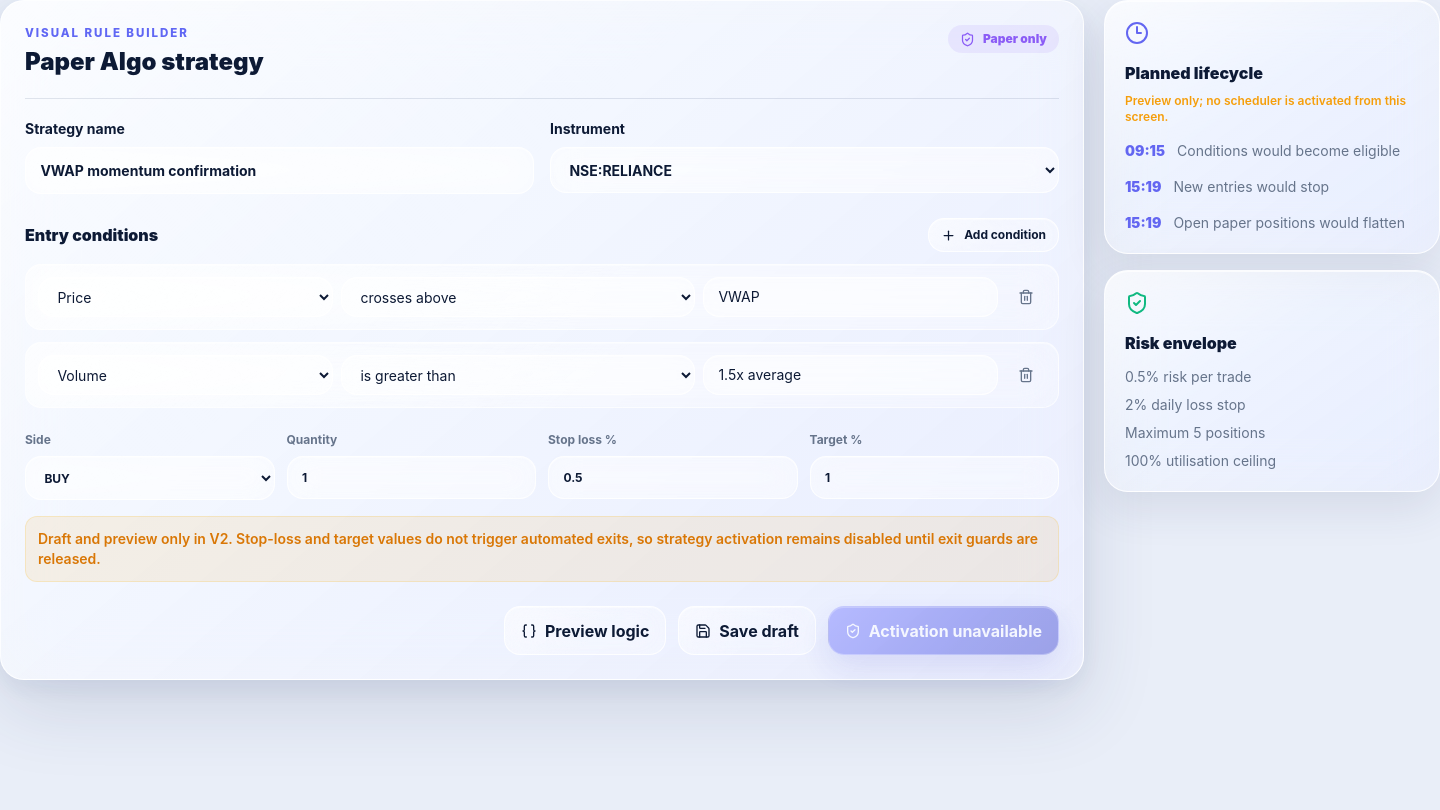
it: Algo Builder execution guard › labels stop and target values as planning references in the preview
Click the button "Preview logic". click: (585, 631)
box: [504,606,666,655]
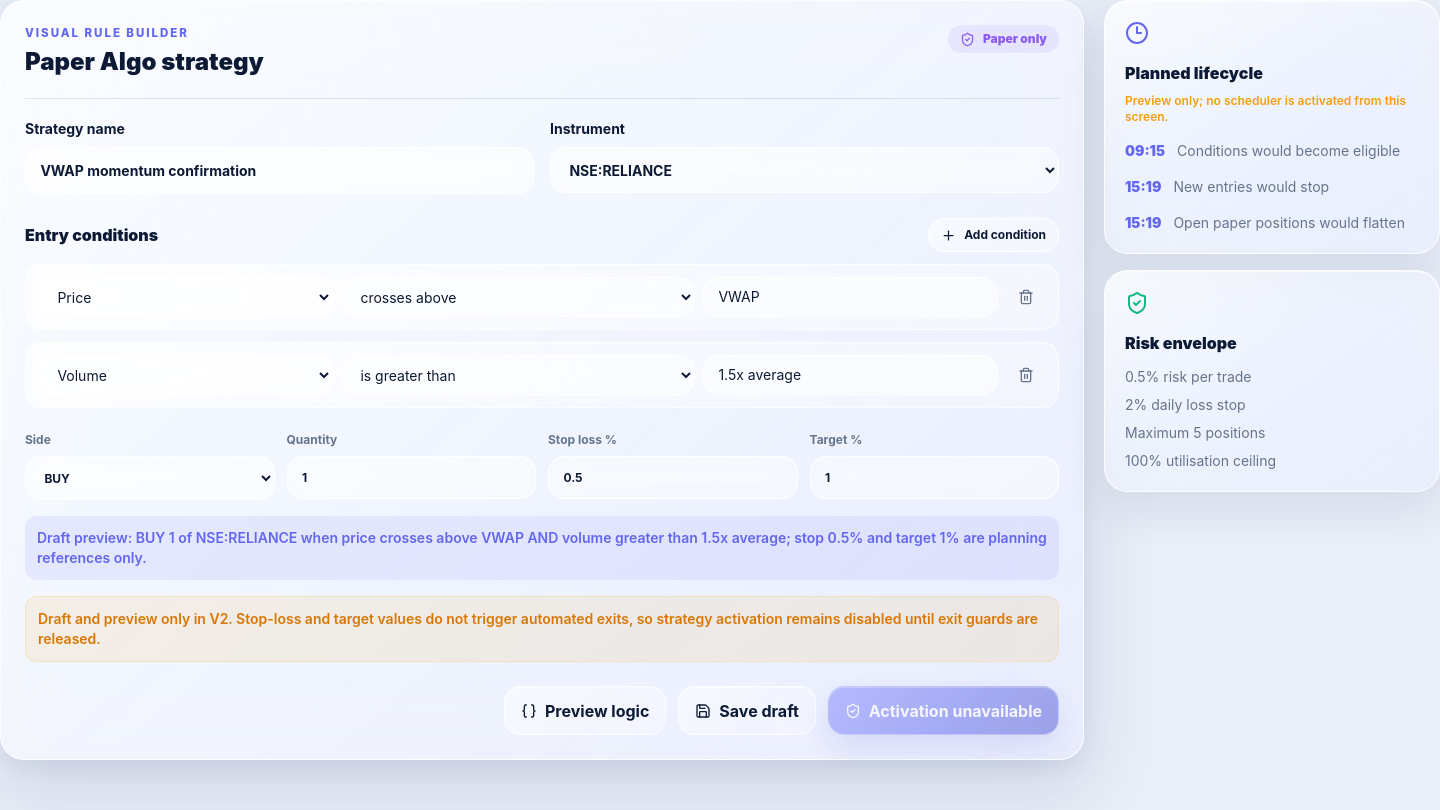
Now the message shows "planning references only", box [37,529,1047,566]
